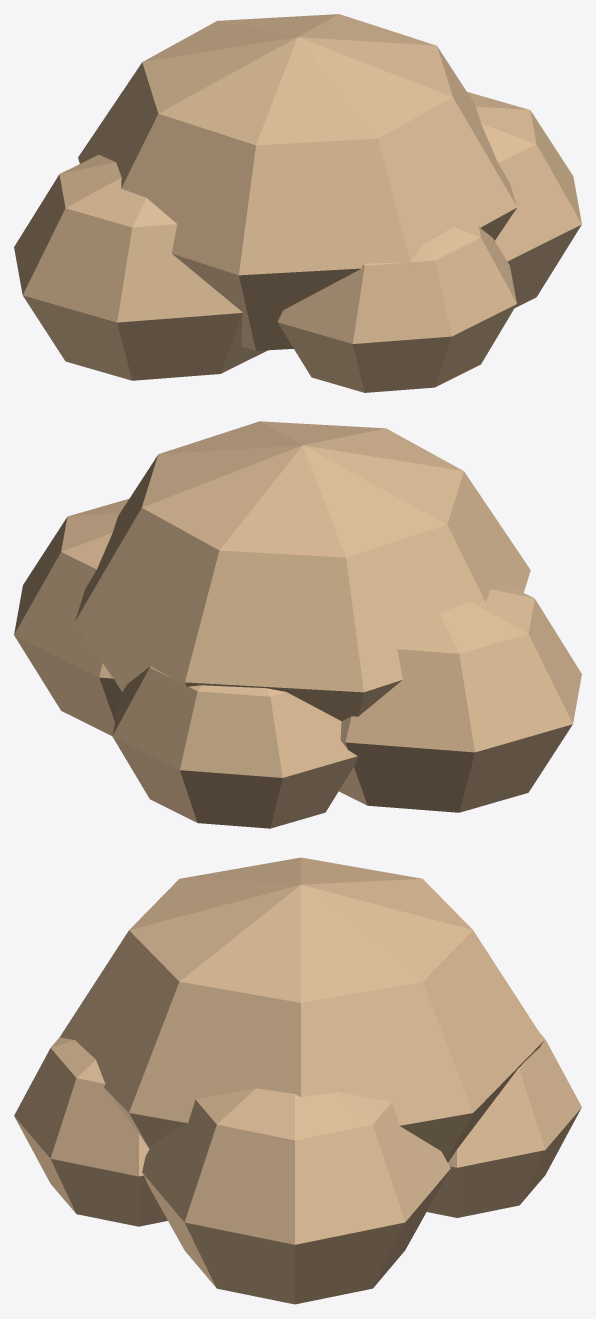
The model's file is t2_tree_leaves.glb.
3 renders of one model, top to bottom at view 1: azimuth 30°, elevation 25°; view 2: azimuth 150°, elevation 25°; view 3: azimuth 270°, elevation 25°, orthographic. The views are drawn at different scales.
Visible parts, largest first — view 1: Leaf_Center, Leaf_Left, Leaf_Back, Leaf_Right; view 2: Leaf_Center, Leaf_Left, Leaf_Front, Leaf_Right; view 3: Leaf_Center, Leaf_Right, Leaf_Back, Leaf_Front.
Boxes of the visible parts, <box> form: Leaf_Center: <box>78,14,517,350</box>; Leaf_Left: <box>14,154,267,380</box>; Leaf_Back: <box>277,225,516,392</box>; Leaf_Right: <box>467,92,581,307</box>; Leaf_Center: <box>75,421,530,721</box>; Leaf_Left: <box>339,583,581,812</box>; Leaf_Front: <box>112,666,357,828</box>; Leaf_Right: <box>14,499,128,735</box>; Leaf_Center: <box>60,857,544,1162</box>; Leaf_Right: <box>142,1088,450,1304</box>; Leaf_Back: <box>14,1037,167,1226</box>; Leaf_Front: <box>427,1033,581,1217</box>.
Bounding box in the file's own units: 2.14 × 1.18 × 1.82.
